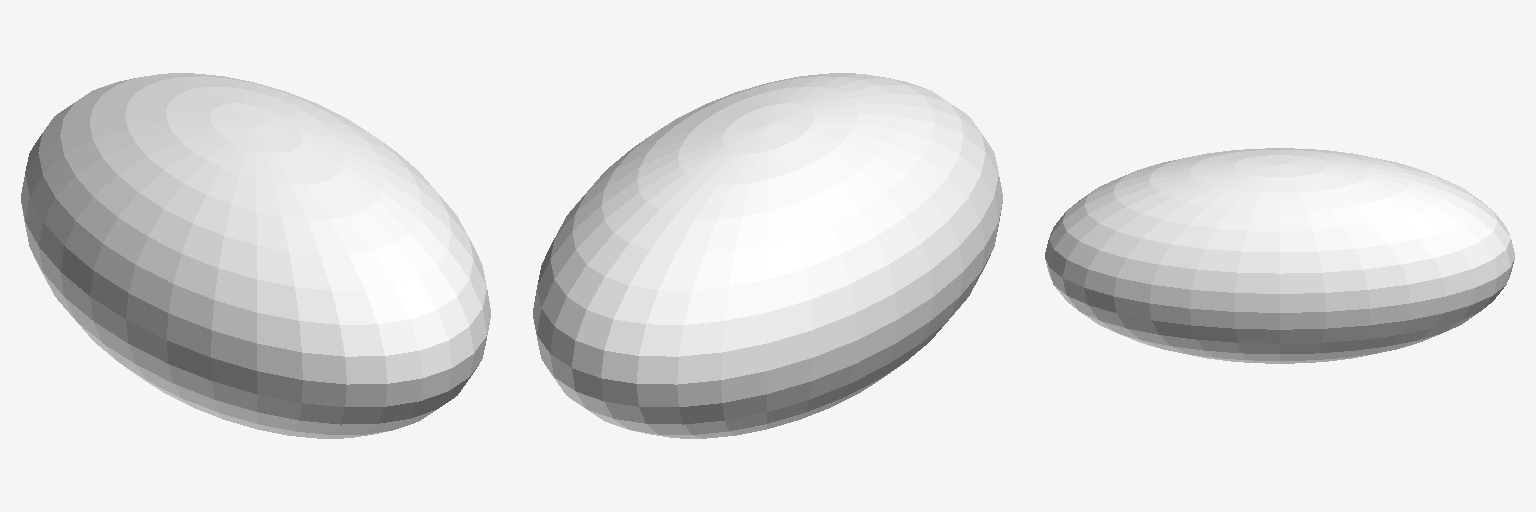
robot.urdf — cube:
<?xml version="1.0" ?>
<robot name="cube">
  <link name="baseLink">
    <contact>
      <lateral_friction value="0.5"/>
      <rolling_friction value="0.0"/>
      <contact_cfm value="0.0"/>
      <contact_erp value="1.0"/>
    </contact>
    <inertial>
      <origin rpy="0 0 0" xyz="0.07 0.05 0.03"/>
       <mass value="2.0"/>
       <inertia ixx="1" ixy="0" ixz="0" iyy="1" iyz="0" izz="1"/>
    </inertial>
    <visual>
      <origin rpy="0 0 0" xyz="0 0 0"/>
      <geometry>
        <mesh filename="supposta.obj" scale=".1 .1 .1"/>
      </geometry>
      <material name="white" >
        <color rgba="1 1 1 1" />
      </material>
    </visual>
    <collision>
      <origin rpy="0 0 0" xyz="0 0 0"/>
      <geometry>
	 	<mesh filename="supposta.obj" scale=".1 .1 .1"/>
      </geometry>
    </collision>
  </link>
</robot>

--- Render facts (derived) ---
3 views of the same robot in one strip: view 1: azimuth 30°, elevation 25°; view 2: azimuth 150°, elevation 25°; view 3: azimuth 270°, elevation 25° (orthographic).
Robot: cube — 1 links, 0 joints (none); root link baseLink; default pose: every joint at zero.
Links seen in each view (by area): view 1: baseLink; view 2: baseLink; view 3: baseLink.
Boxes of the visible links, x1,y1,x2,y2 form: baseLink: (21,73,490,438); baseLink: (533,73,1002,438); baseLink: (1045,148,1514,363).
Bounding box of the posed robot: 0.1146 × 0.2 × 0.0859 m (x, y, z).
1 mesh visuals loaded from 1 distinct referenced files (1 OBJ).